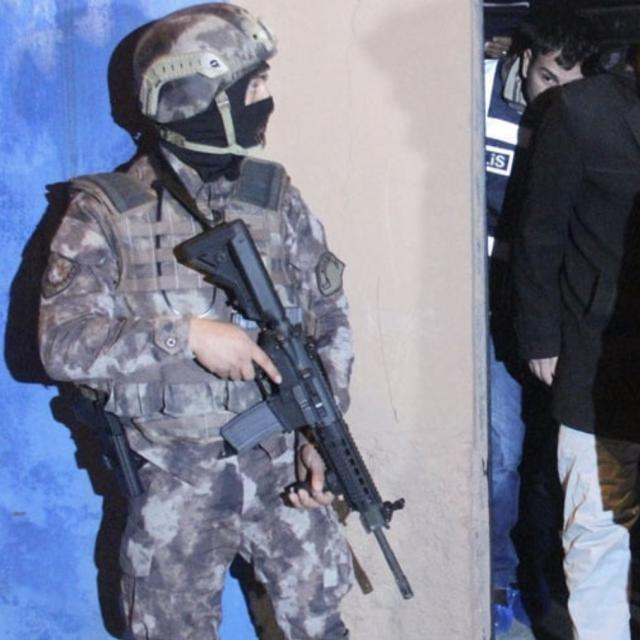poh_personel: (40, 2, 359, 640)
